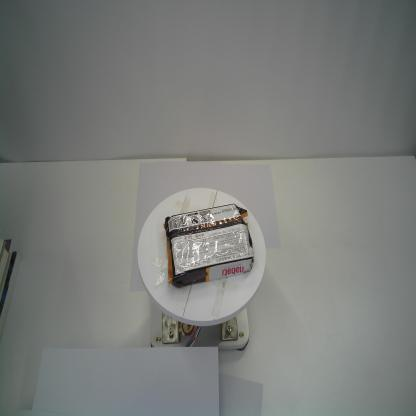Dessert: (161, 201, 255, 289)
